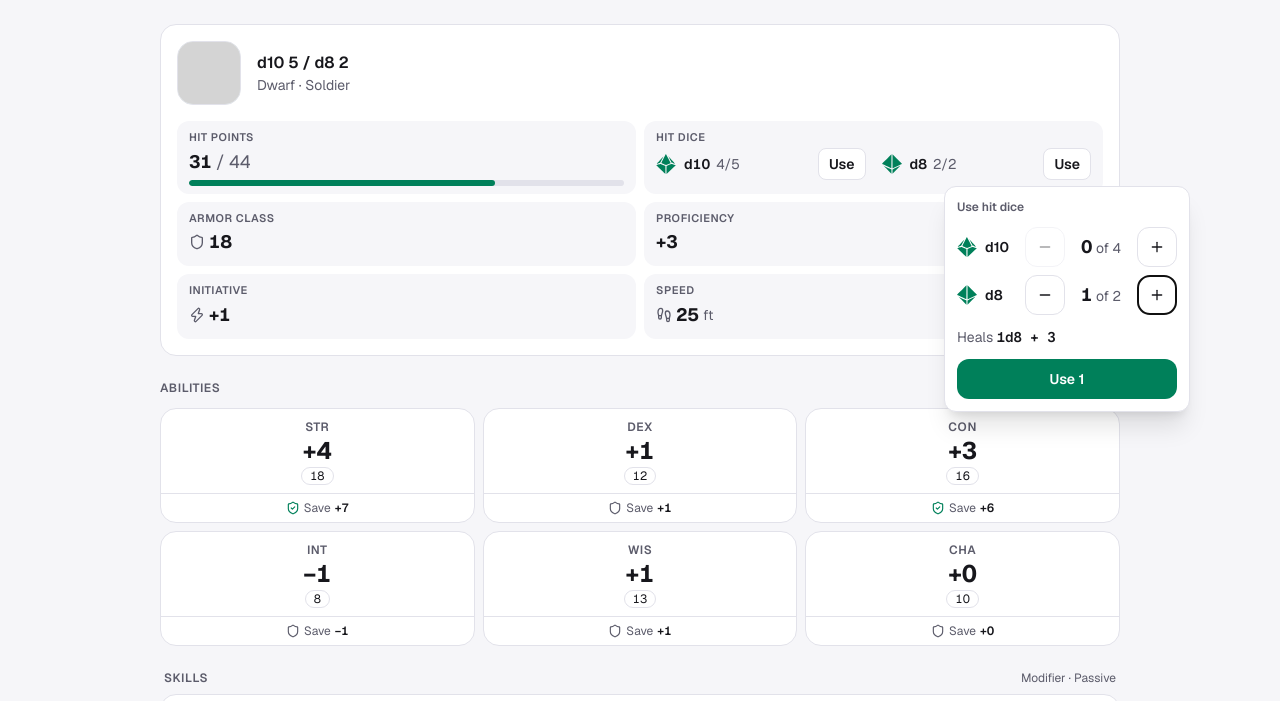
Scenario: components/character-sheet/character-sheet › hit dice › uses several of more than one size at once, from the popover of any of them
Expected: the list items read "d100 of 4", "d81 of 2", in this order, [957, 227, 1177, 267]; [957, 275, 1177, 315]
Step 1. Click the button named "One d10 more" → (1157, 247), box [1137, 227, 1177, 267]
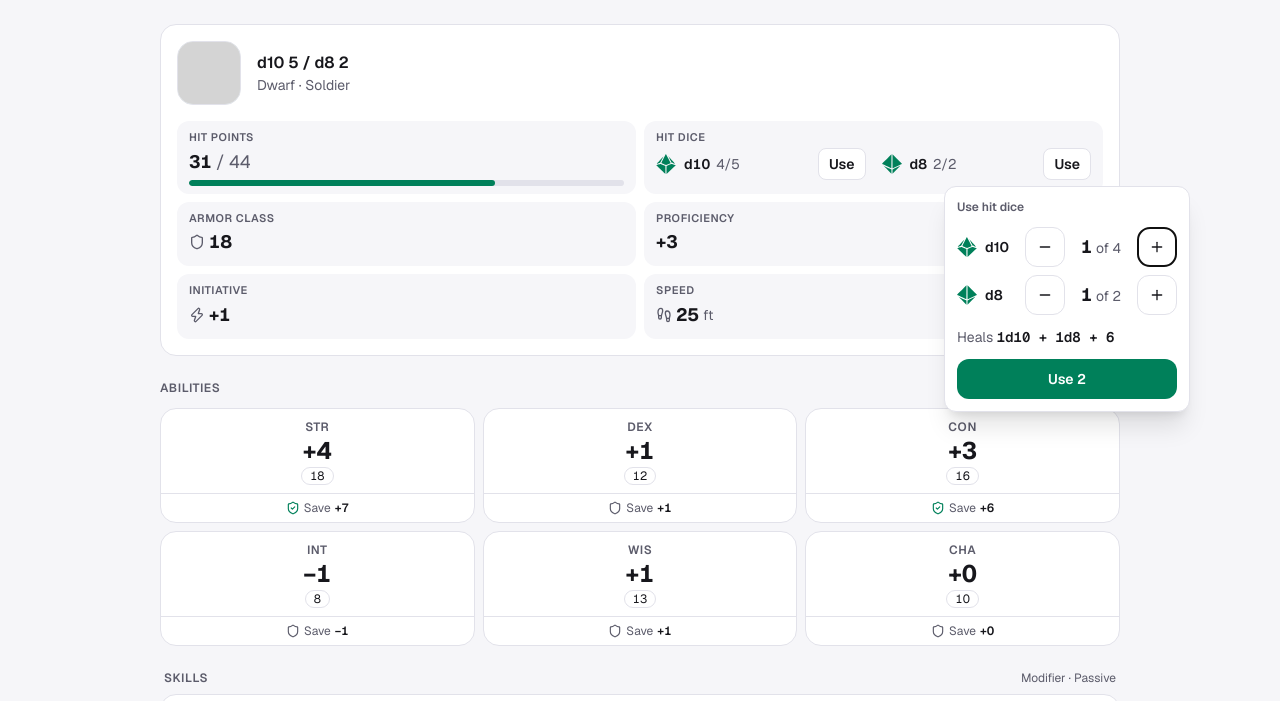
Step 2. Click the button named "One d10 more" → (1157, 247), box [1137, 227, 1177, 267]
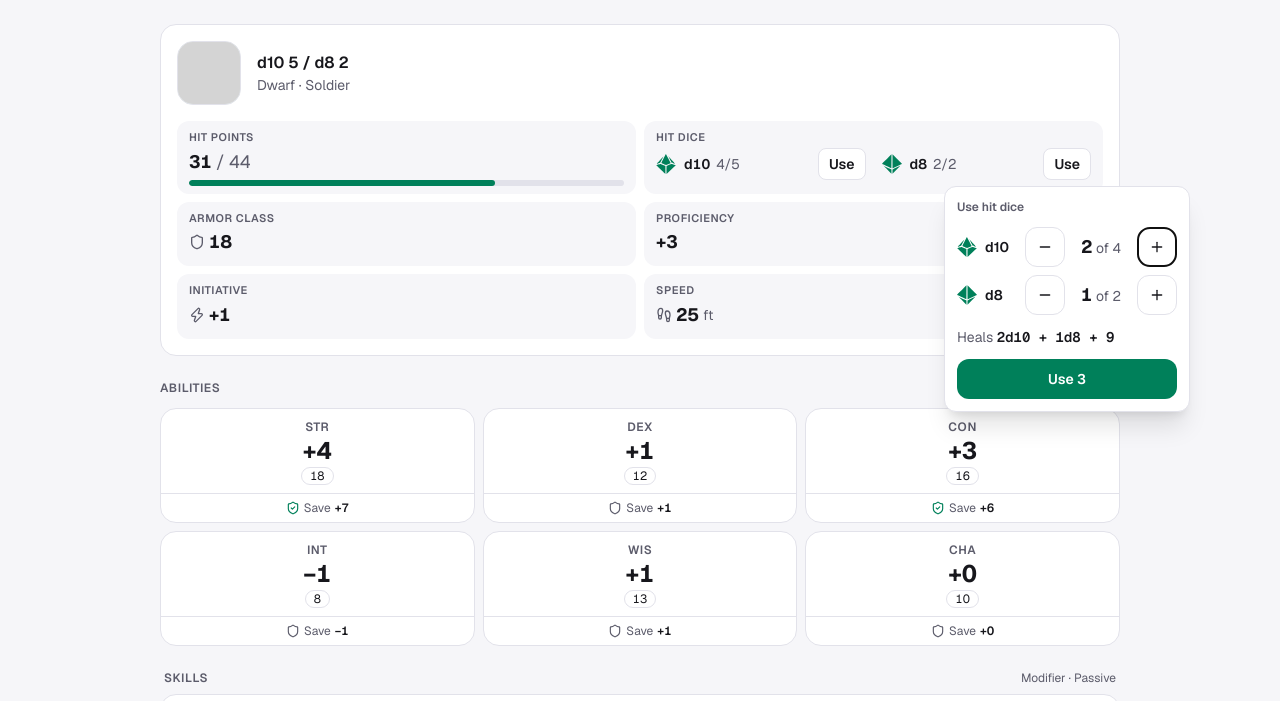
Result: the dialog "Use hit dice" shows "Heals 2d10 + 1d8 + 9" at [944, 186, 1190, 412]
Step 3. Click the button named "Use 3 hit dice: 2d10 and 1d8" → (1067, 379), box [957, 359, 1177, 399]
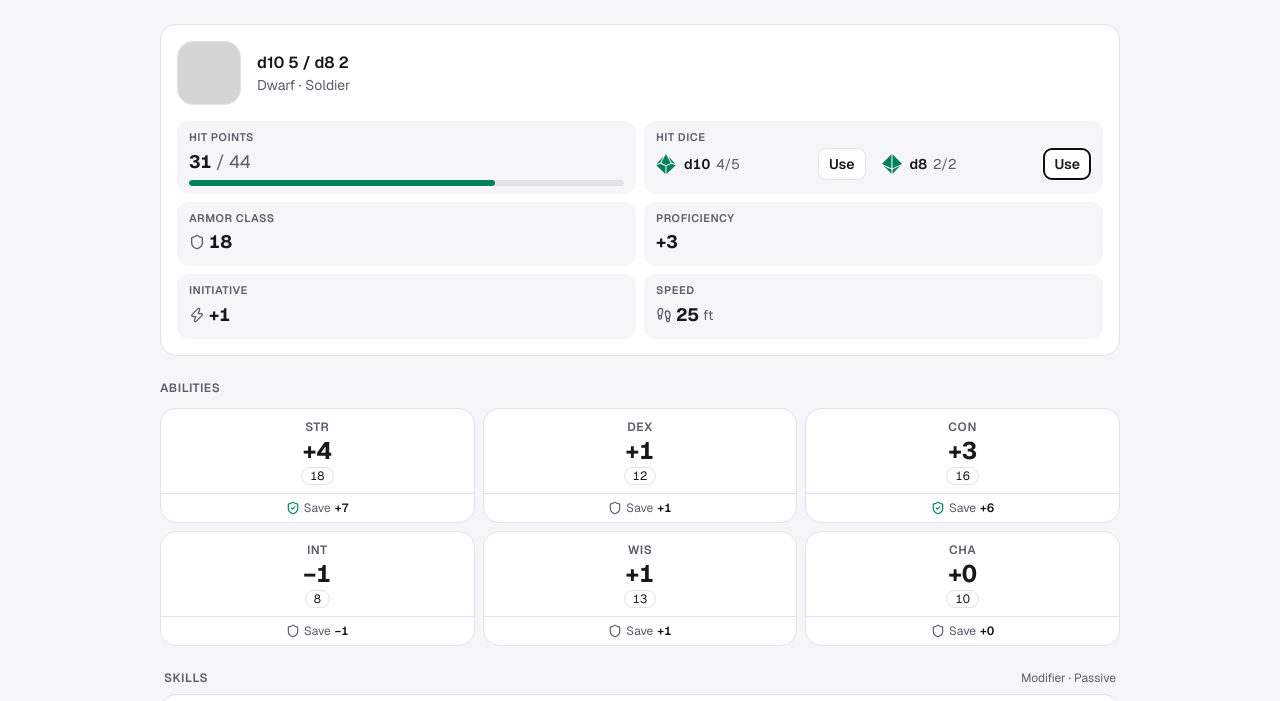
Result: the dialog is gone
